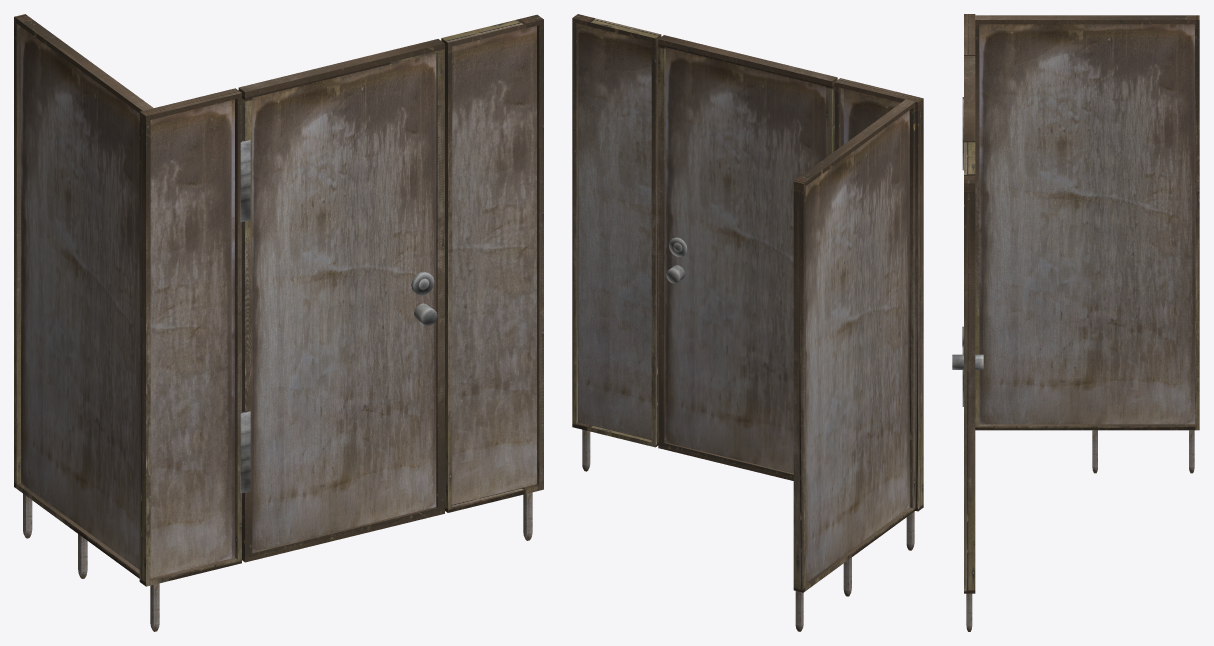
The model's file is toilet_cabin.fbx.
3 renders of one model, left to right at view 1: azimuth 30°, elevation 25°; view 2: azimuth 150°, elevation 25°; view 3: azimuth 270°, elevation 25°, orthographic. The views are drawn at different scales.
Visible parts, largest first — view 1: Box001, Box003, Object001, Object002; view 2: Box001, Box003, Object002, Object001; view 3: Box003, Object002, Box001, Object001.
Boxes of the visible parts, box(x1,y1,x2,y2) form: Box001: box(238, 39, 444, 562); Box003: box(14, 14, 153, 578); Object001: box(139, 88, 241, 631); Object002: box(441, 14, 543, 540); Box001: box(658, 35, 837, 480); Box003: box(793, 99, 915, 631); Object002: box(572, 14, 661, 471); Object001: box(834, 78, 923, 550); Box003: box(975, 15, 1199, 473); Object002: box(964, 142, 975, 631); Box001: box(952, 56, 983, 406); Object001: box(964, 14, 975, 55).
Size of the model in its own units: 153 by 191 by 94.39.
